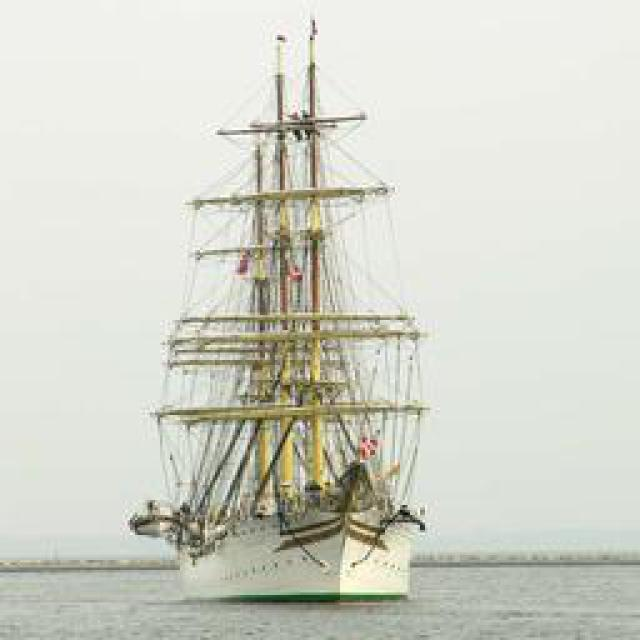Ship: (126, 10, 438, 609)
